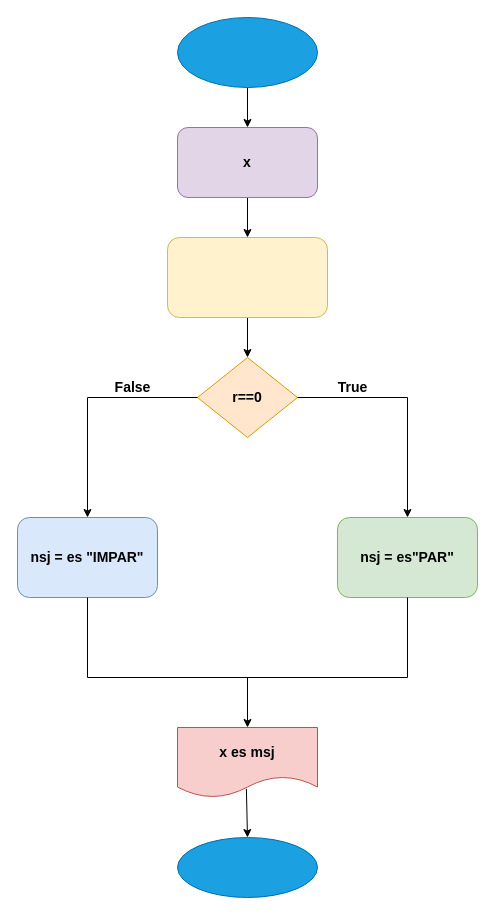
Image size: 495x915. Some labels were removed from this diagram. Each missing label, with the box of its shape:
FIN: (176, 836, 318, 898)
INICIO: (176, 16, 318, 88)
r= x % 2: (166, 236, 328, 318)
